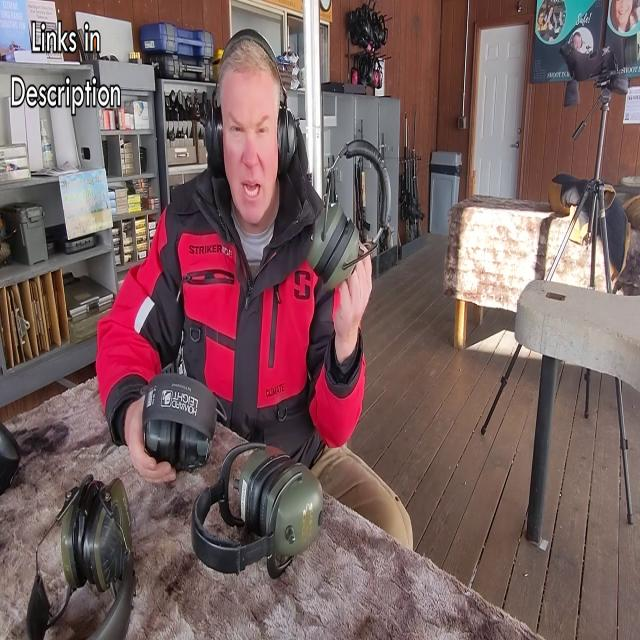earmuff: (276, 101, 304, 172), (202, 110, 228, 178)
